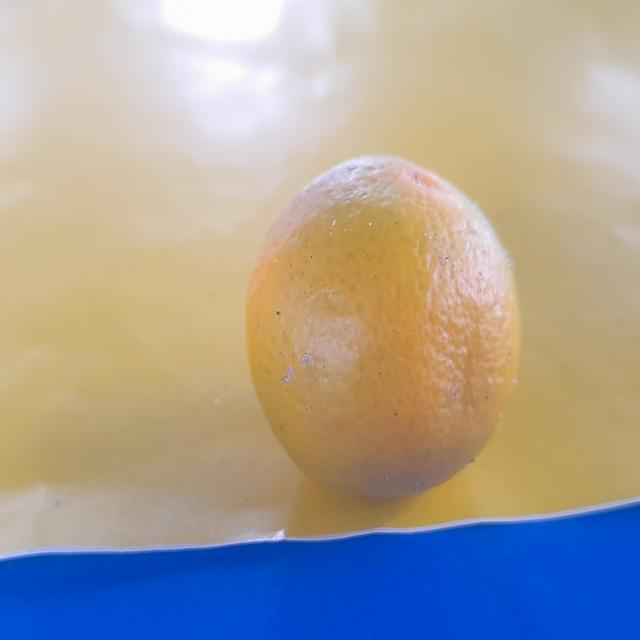greening: (242, 152, 523, 506)
